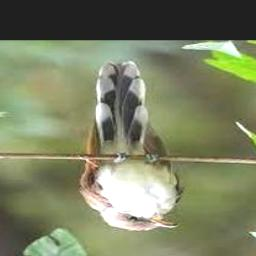Cuckoo: (80, 59, 186, 231)
